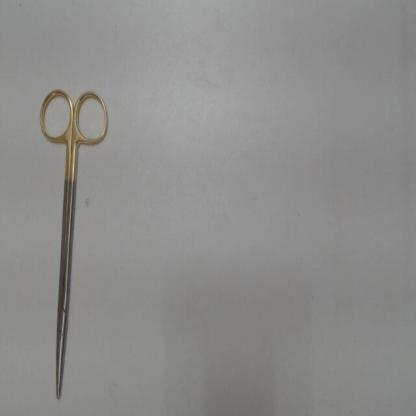7 Metzenbaum Scissors: (35, 83, 113, 403)
